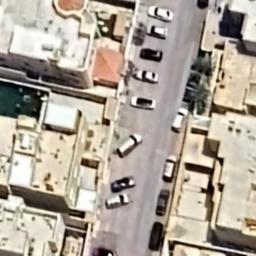SUV: (169, 106, 190, 134), (161, 151, 178, 183)
sedan: (147, 218, 164, 251), (145, 4, 174, 22), (138, 44, 166, 62), (143, 22, 170, 40), (154, 188, 171, 216), (134, 66, 160, 84), (130, 94, 157, 110)
truck: (116, 132, 143, 159)
